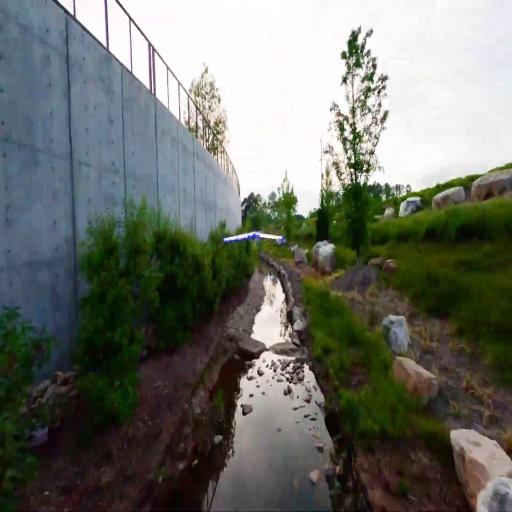uav: (222, 228, 284, 250)
